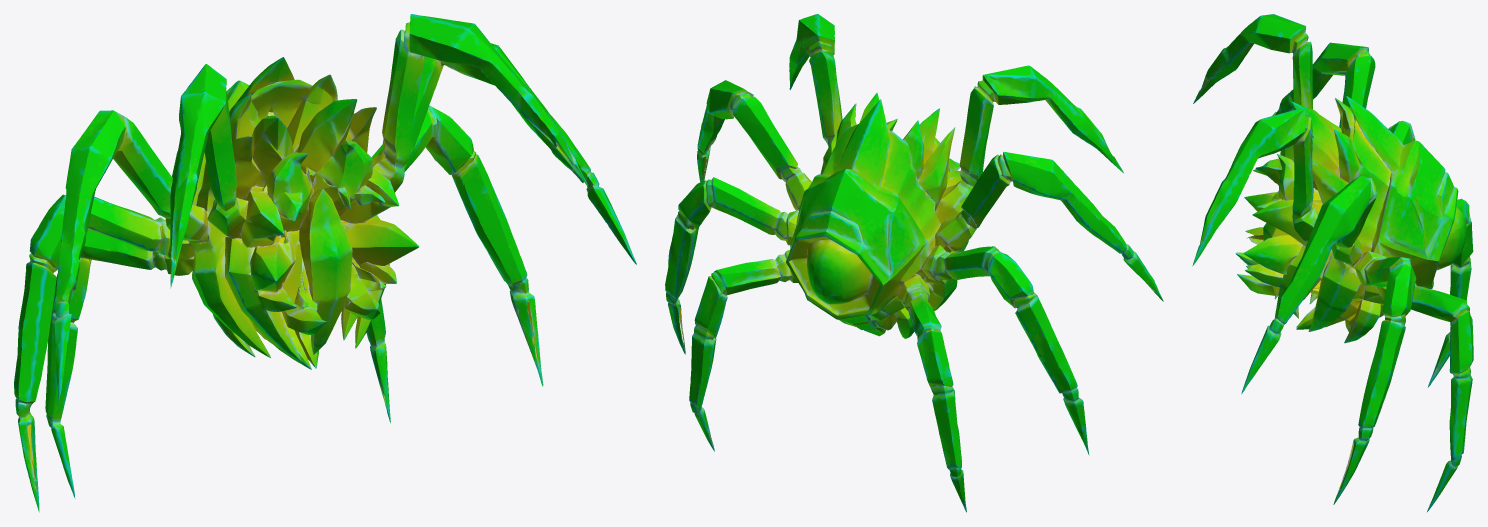
Rendered from TombSpider_outline.fbx.
3 views of the same model, side by side, from view 1: azimuth 30°, elevation 25°; view 2: azimuth 150°, elevation 25°; view 3: azimuth 270°, elevation 25° (orthographic). The views are drawn at different scales.
Visible parts, largest first — view 1: TombSpider_outline; view 2: TombSpider_outline; view 3: TombSpider_outline.
Boxes of the visible parts, x1,y1,x2,y2 form: TombSpider_outline: (14,14,636,512); TombSpider_outline: (665,14,1163,512); TombSpider_outline: (1192,14,1473,511).
Bounding box in the file's own units: 139 × 110 × 72.91.
